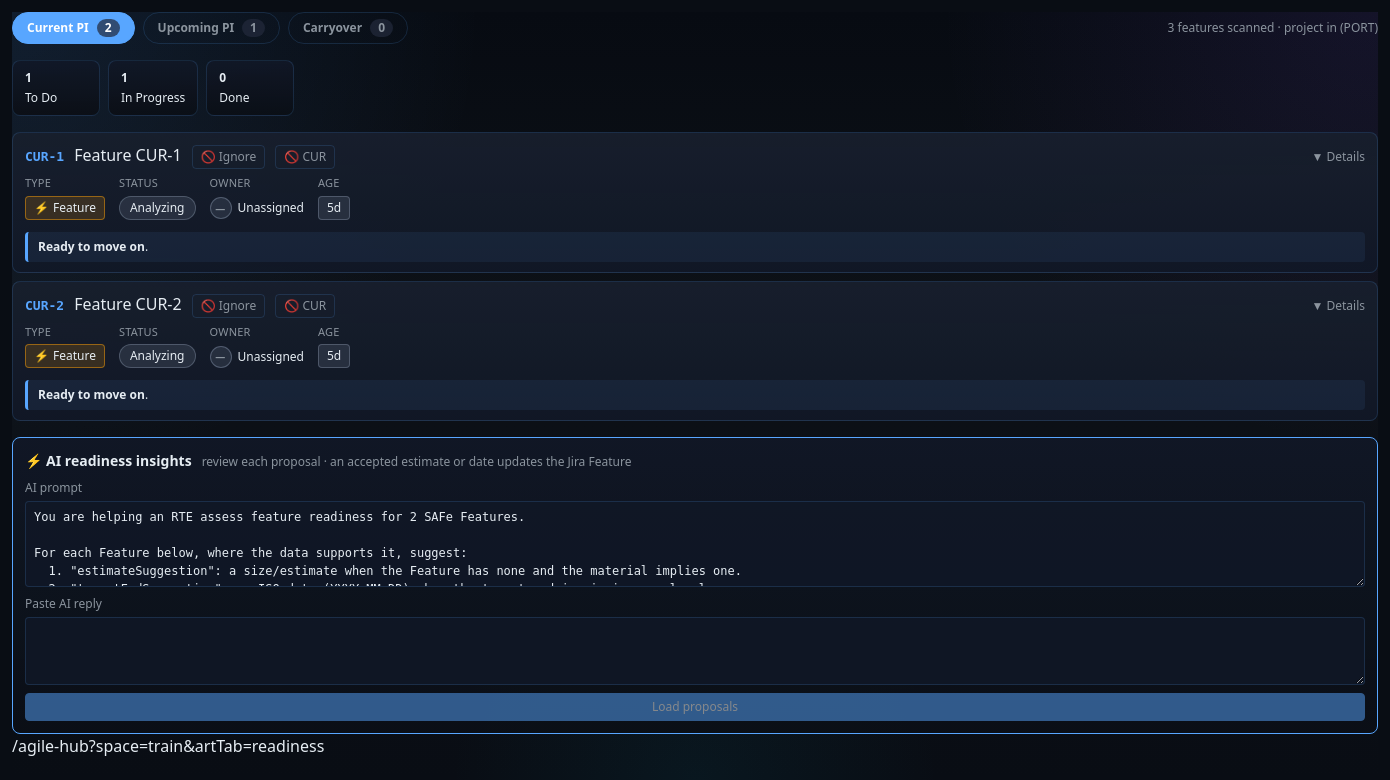
it: ReadinessPanel › switches lenses and writes the lens to the URL (deep-linkable)
Click the button "Upcoming PI 1". click: (211, 28)
box: [143,12,280,44]
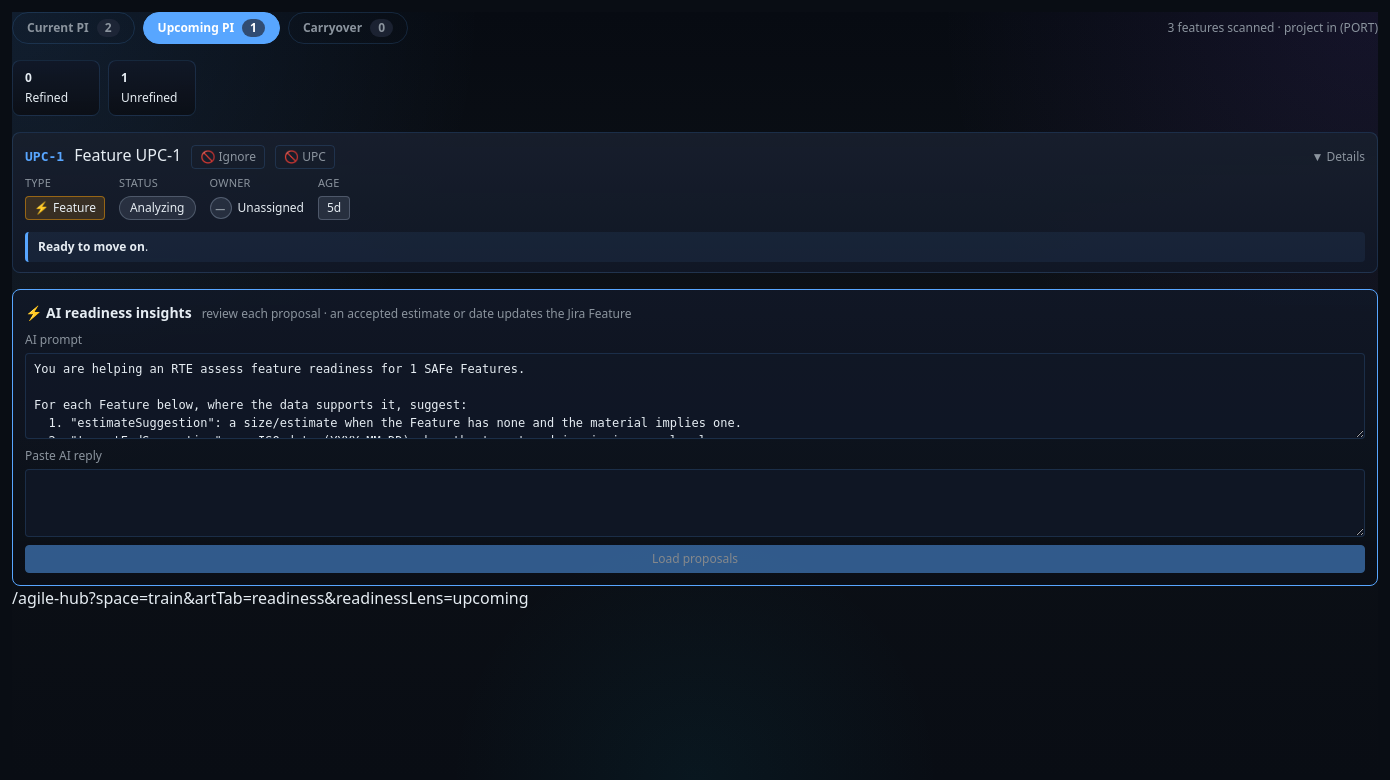
Expected: the link "UPC-1" is shown, [25,147,64,166]
Expected: the text with test id "location-probe" shows "readinessLens=upcoming", [12,586,528,608]
